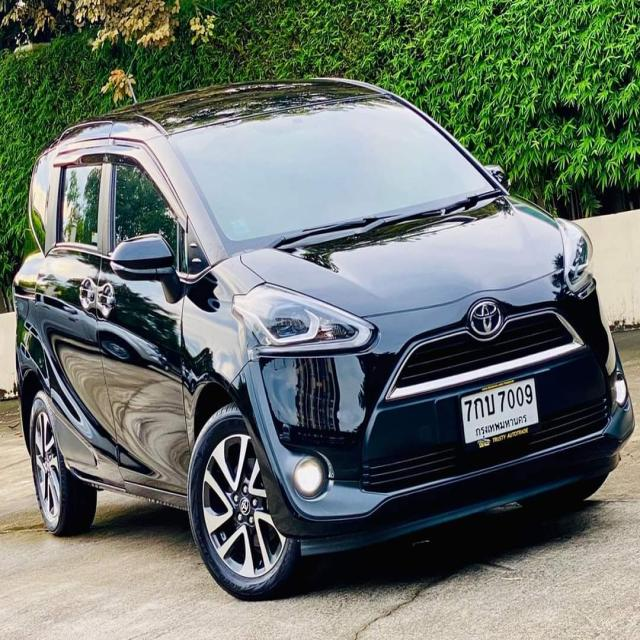license_plate: (455, 373, 543, 456)
